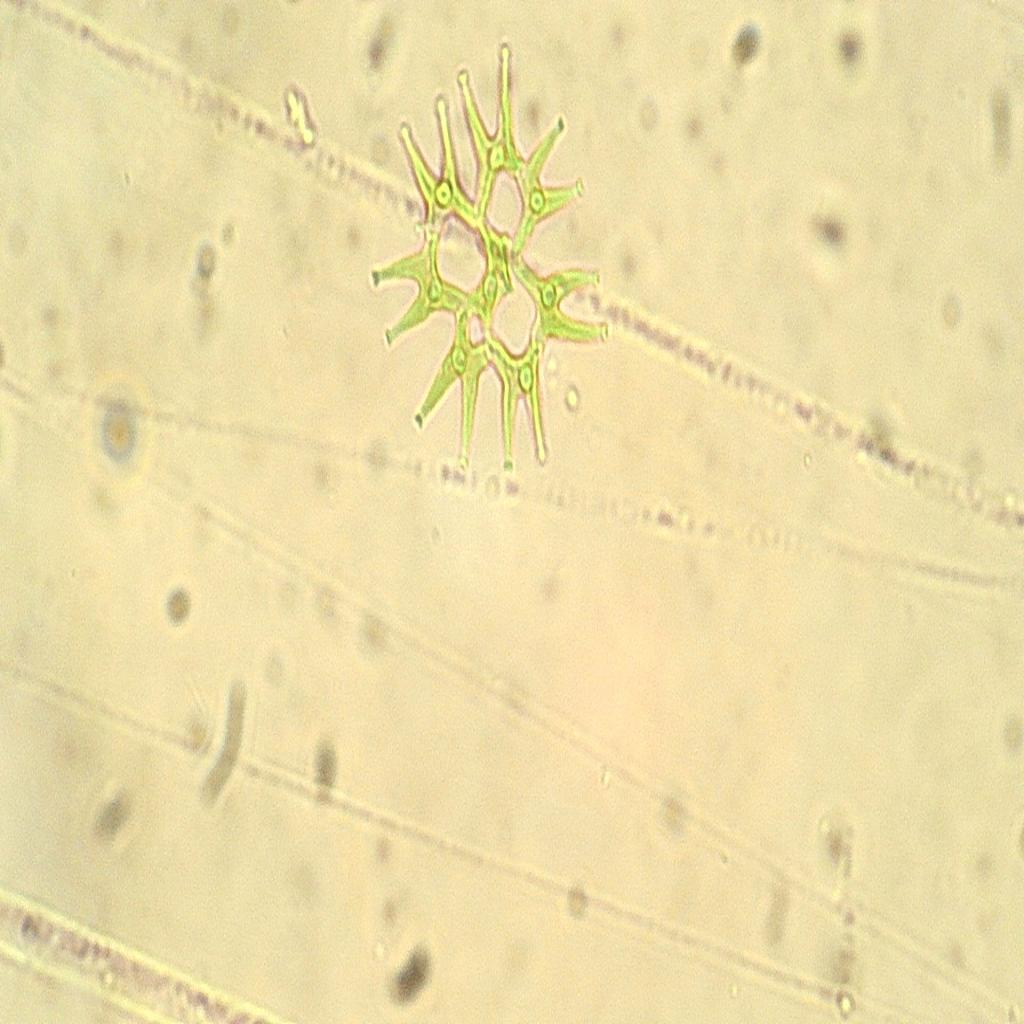Pediastrum_1T: (360, 37, 613, 532)
